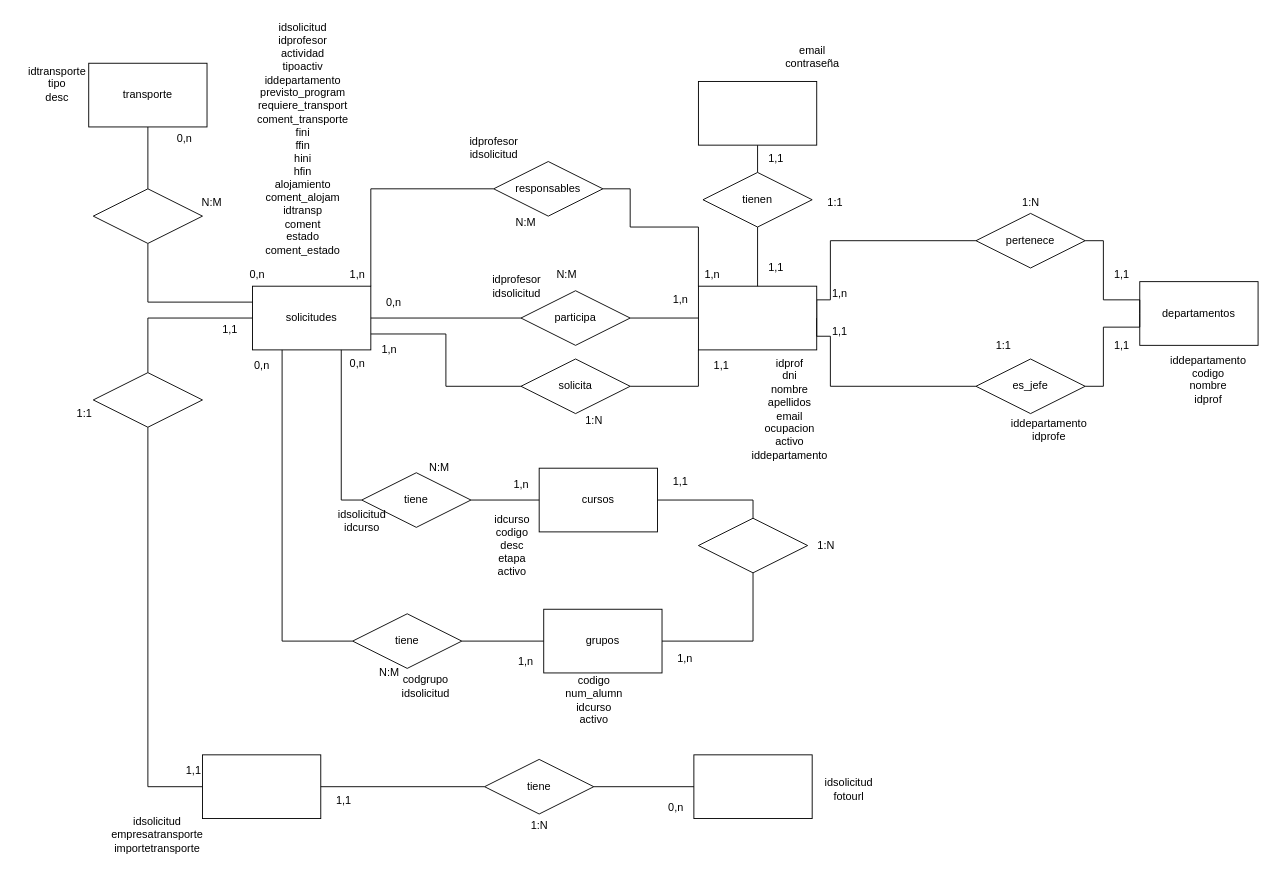
Image size: 1274x877. Some labels were removed from this diagram. Here are the shapes that lost their labels. From the top down, the centre of each, then its label:
At point 757,113: "logprofesores".
At point 147,215: "necesita".
At point 757,317: "profesores".
At point 147,399: "generan".
At point 753,545: "forman".
At point 261,786: "actividades".
At point 752,786: "fotos".
